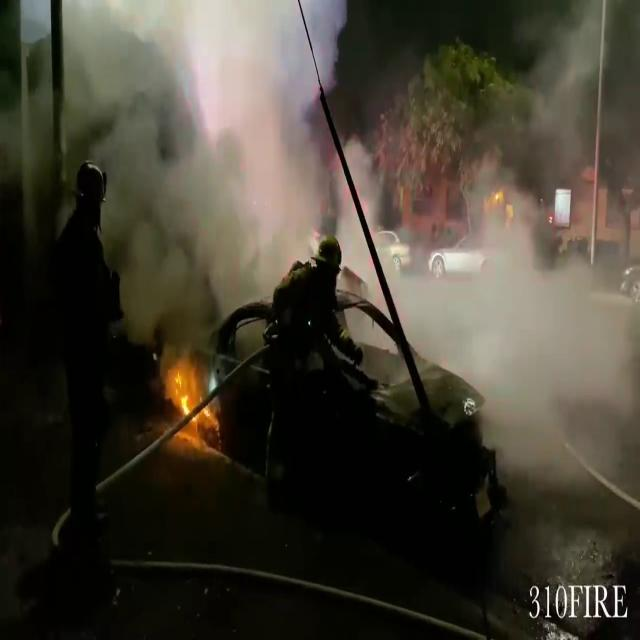Fire: (164, 349, 217, 433)
Smoke: (437, 1, 640, 491), (89, 2, 344, 342)
